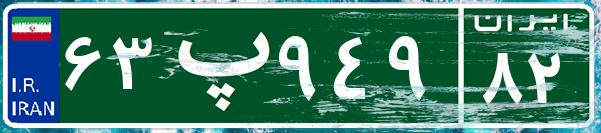2: (525, 38, 570, 115)
3: (110, 28, 158, 105)
4: (330, 28, 385, 110)
6: (57, 26, 110, 107)
8: (475, 38, 525, 113)
9: (385, 28, 445, 110), (273, 28, 330, 110)
پ: (158, 15, 273, 115)
